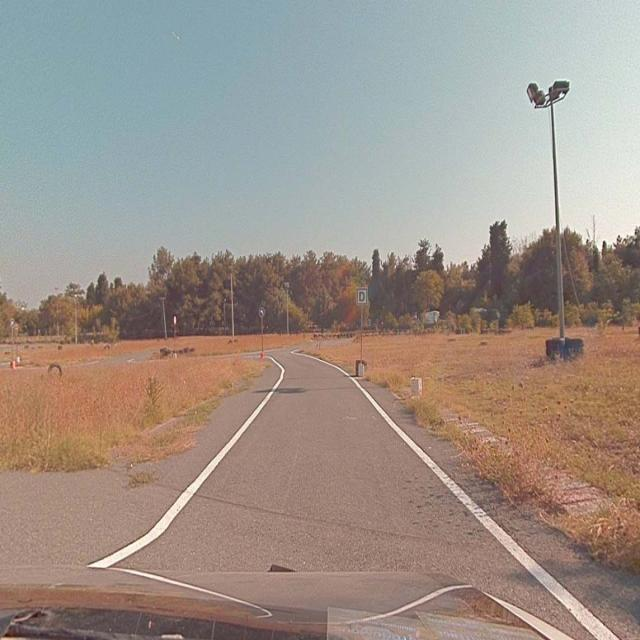durak: (356, 288, 367, 305)
sol: (259, 306, 265, 316)
